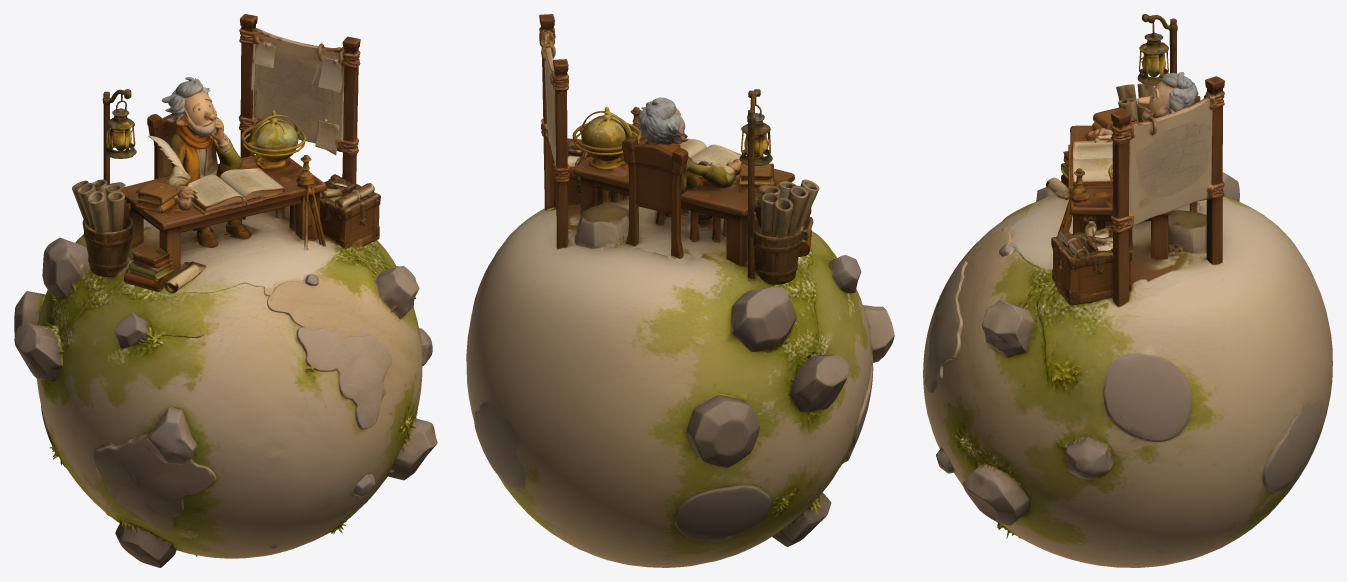
Rendered from geographer.glb.
The picture shows the model from 3 angles, left to right: view 1: azimuth 30°, elevation 25°; view 2: azimuth 150°, elevation 25°; view 3: azimuth 270°, elevation 25°; orthographic projection. The views are drawn at different scales.
Visible parts, largest first — view 1: node_0; view 2: node_0; view 3: node_0.
Boxes of the visible parts, x1=… form: node_0: x1=14, y1=14, x2=437, y2=567; node_0: x1=466, y1=14, x2=894, y2=567; node_0: x1=923, y1=14, x2=1332, y2=567.
Size of the model in its own units: 0.8563 by 1.05 by 0.7853.
1 material, 1 textured.
